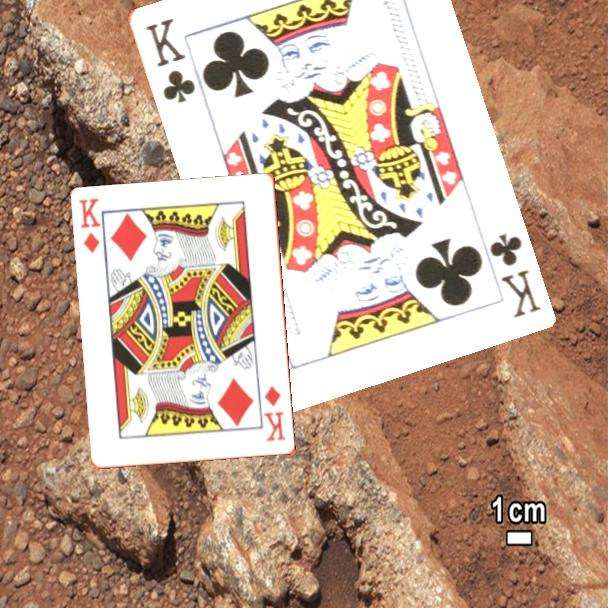c13: (485, 229, 543, 320), (141, 14, 198, 106)
d13: (76, 195, 104, 256), (261, 383, 288, 444)
